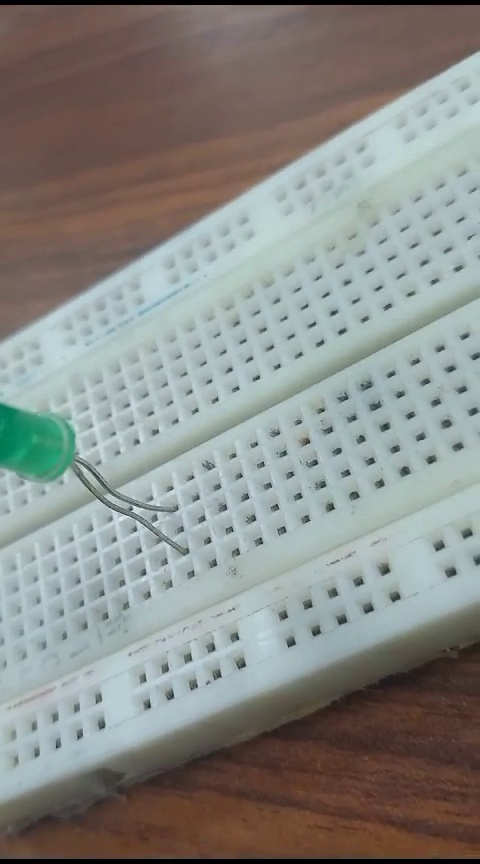LED: (6, 388, 184, 571)
